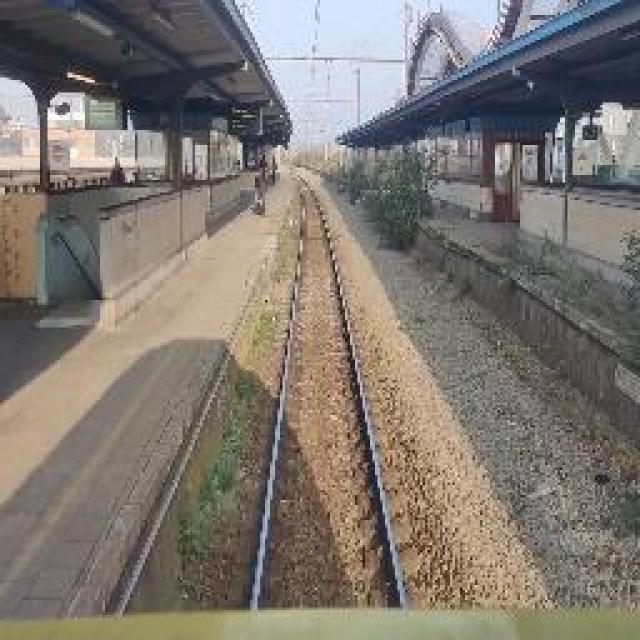rail: (202, 172, 426, 614)
